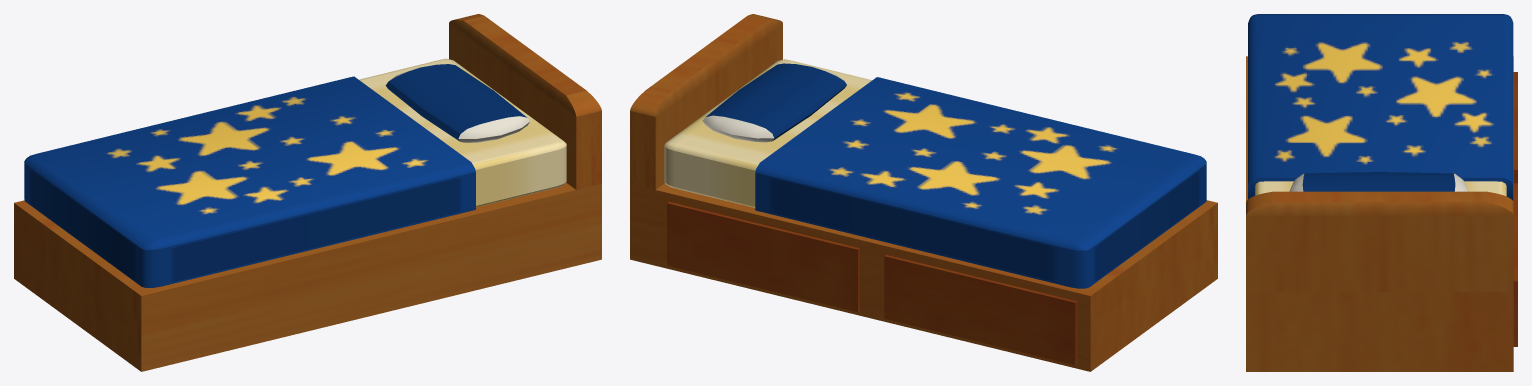
Rendered from bed textured.fbx.
3 views of the same model, side by side, from view 1: azimuth 30°, elevation 25°; view 2: azimuth 150°, elevation 25°; view 3: azimuth 270°, elevation 25° (orthographic). The views are drawn at different scales.
Parts seen in each view (by area): view 1: Quit.001, Bed Frame.001, Bed shelf.001, Bed Matress.001, Pillow.001; view 2: Quit.001, Bed side thingy.001, Bed Frame.001, Bed shelf.001, Bed Matress.001, Pillow.001; view 3: Quit.001, Bed shelf.001, Bed Frame.001, Pillow.001, Bed side thingy.001, Bed Matress.001.
Boxes of the visible parts, <box> form: Quit.001: <box>24,76,475,287</box>; Bed Frame.001: <box>14,182,601,371</box>; Bed shelf.001: <box>449,14,601,189</box>; Bed Matress.001: <box>359,58,566,207</box>; Pillow.001: <box>385,64,529,142</box>; Quit.001: <box>755,77,1206,288</box>; Bed side thingy.001: <box>667,202,1077,365</box>; Bed Frame.001: <box>630,183,1217,371</box>; Bed shelf.001: <box>630,14,782,189</box>; Bed Matress.001: <box>664,59,871,207</box>; Pillow.001: <box>702,63,846,142</box>; Quit.001: <box>1248,14,1513,200</box>; Bed shelf.001: <box>1246,191,1513,292</box>; Bed Frame.001: <box>1246,56,1513,371</box>; Pillow.001: <box>1289,172,1468,191</box>; Bed side thingy.001: <box>1513,72,1517,346</box>; Bed Matress.001: <box>1255,181,1506,196</box>.
Bounding box in the file's own units: 4640 × 1544 × 2258.
